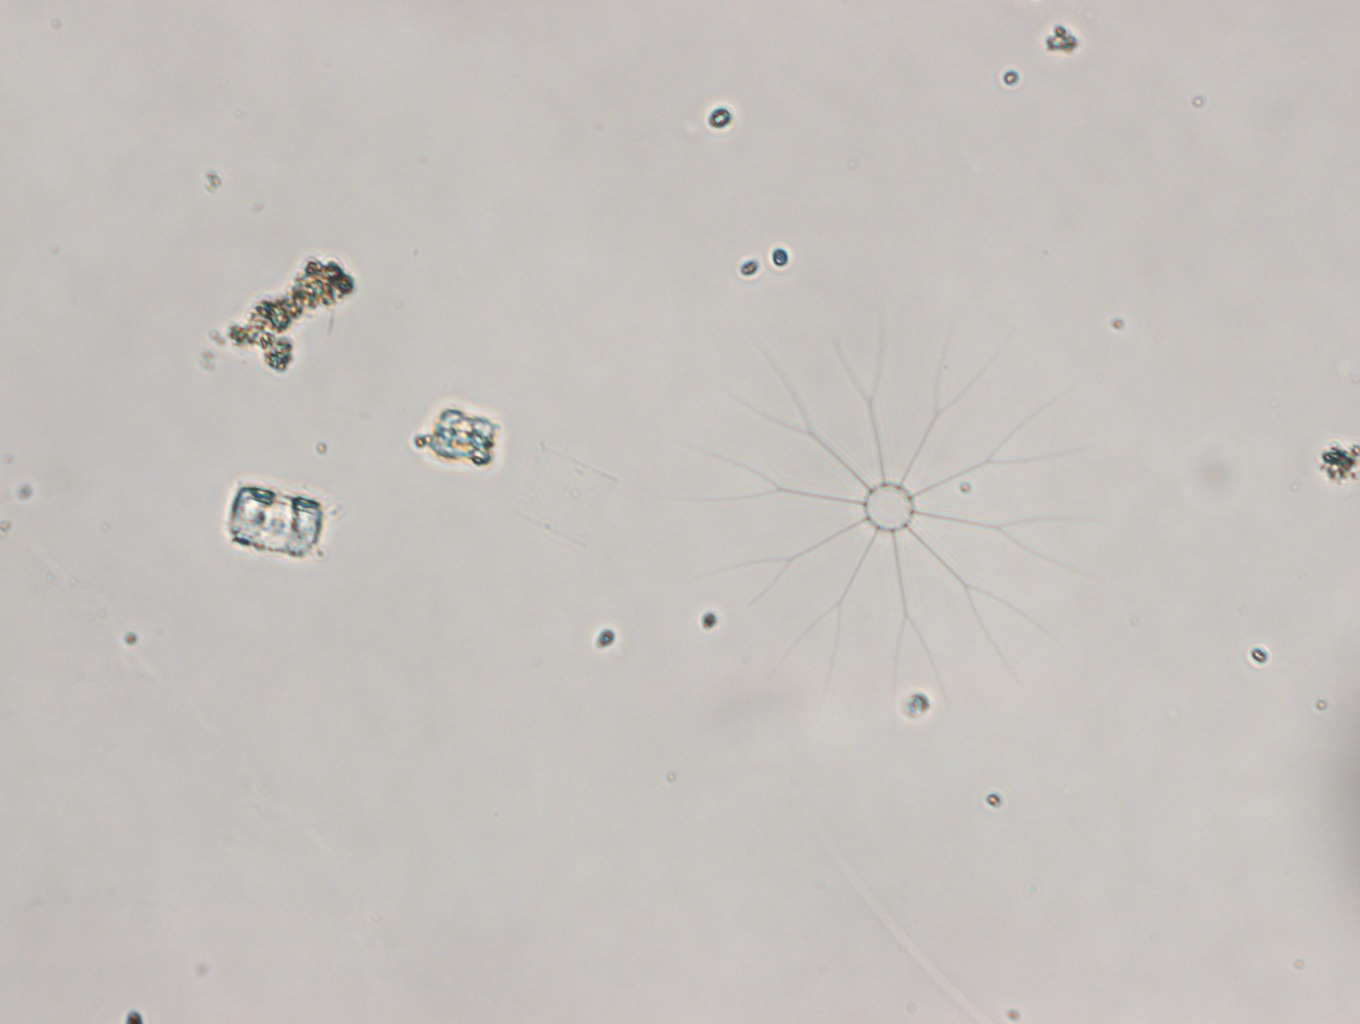bacteriastrum: (689, 298, 1123, 717)
